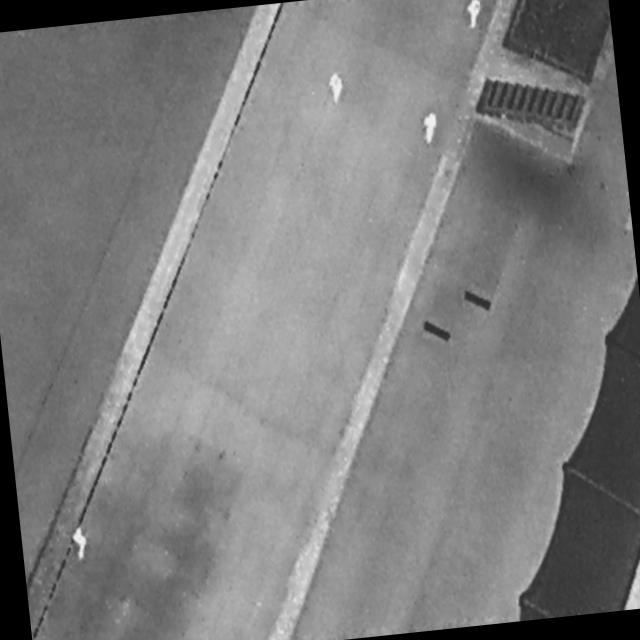person: (416, 105, 444, 150), (70, 525, 91, 561), (462, 1, 484, 33), (328, 71, 345, 105)
